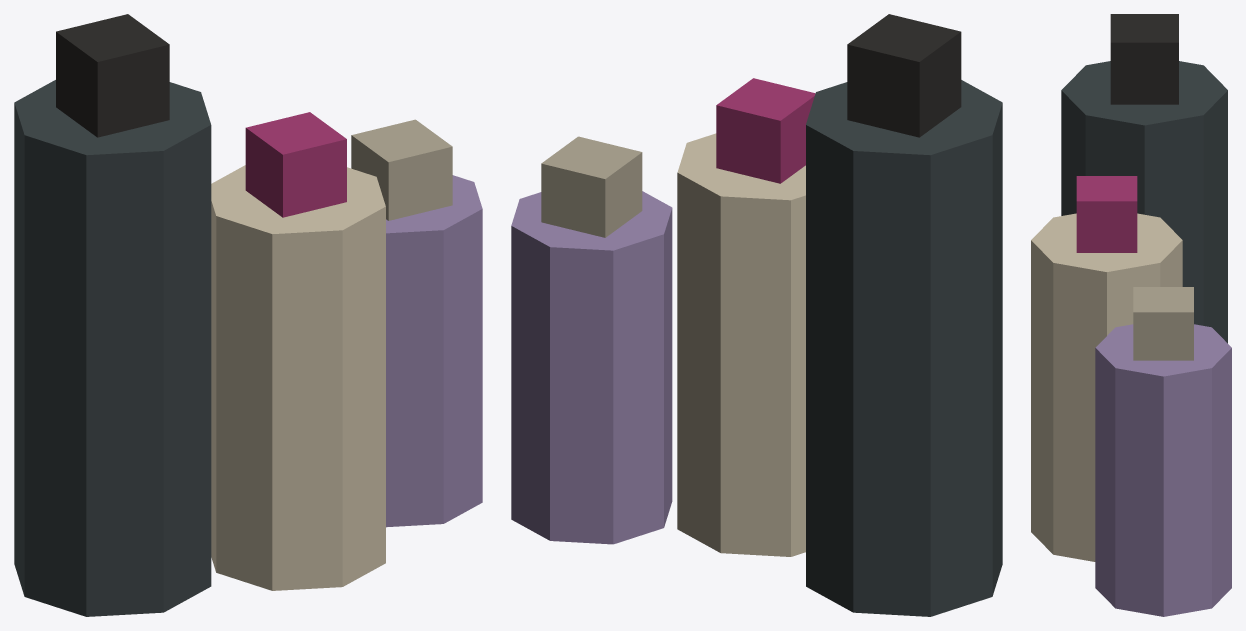
File: bottles-small.glb
3 views of the same model, side by side, from view 1: azimuth 30°, elevation 25°; view 2: azimuth 150°, elevation 25°; view 3: azimuth 270°, elevation 25° (orthographic). The views are drawn at different scales.
Visible parts, largest first — view 1: glass, paper, accent-lilac, plastic-dark, accent-magenta, plastic-light; view 2: glass, accent-lilac, paper, plastic-dark, plastic-light, accent-magenta; view 3: accent-lilac, paper, glass, plastic-dark, accent-magenta, plastic-light.
Part boxes in pixels (x1,y1,x2,y2): glass: [14, 80, 211, 616]; paper: [211, 165, 385, 590]; accent-lilac: [386, 175, 482, 527]; plastic-dark: [56, 14, 169, 137]; accent-magenta: [245, 112, 346, 217]; plastic-light: [351, 119, 452, 220]; glass: [806, 80, 1002, 616]; accent-lilac: [511, 191, 672, 544]; paper: [677, 133, 805, 556]; plastic-dark: [847, 14, 961, 137]; plastic-light: [541, 136, 642, 237]; accent-magenta: [716, 78, 815, 183]; accent-lilac: [1095, 324, 1231, 616]; paper: [1031, 213, 1182, 561]; glass: [1061, 61, 1227, 343]; plastic-dark: [1110, 14, 1178, 104]; accent-magenta: [1076, 176, 1137, 252]; plastic-light: [1133, 287, 1193, 360].
Size of the model in its own units: 0.115 by 0.128 by 0.053.
